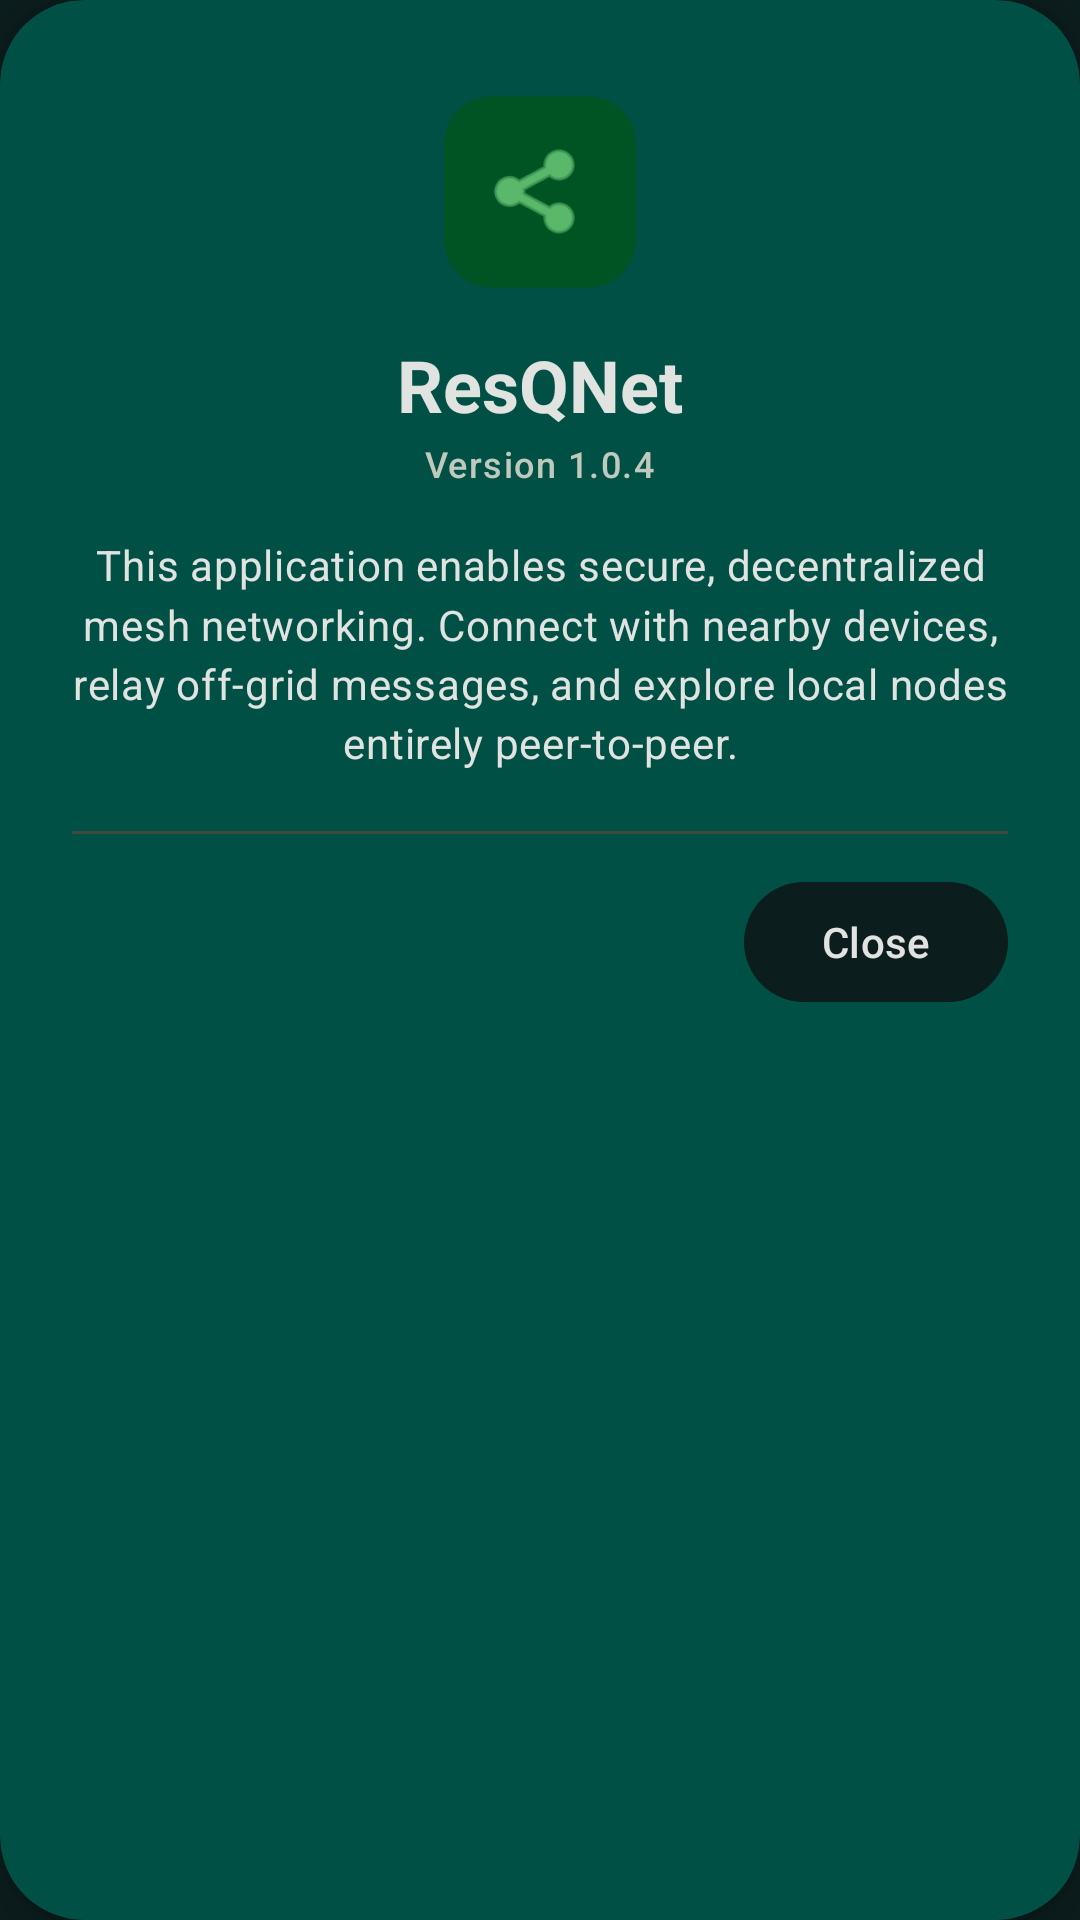

Locate icon controls on the screen. Image size 1080px×1920px, boxes as (x1, y1, x2, y2).
share: (494, 149, 575, 234)
